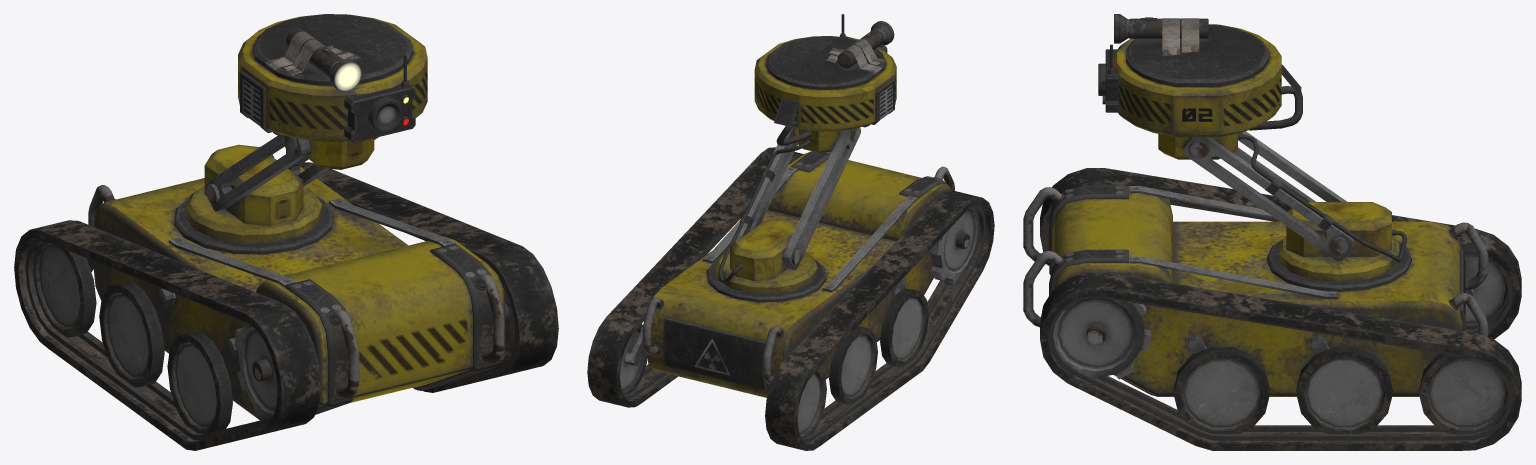
The model's file is wasteland_robot.glb.
3 views of the same model, side by side, from view 1: azimuth 30°, elevation 25°; view 2: azimuth 150°, elevation 25°; view 3: azimuth 270°, elevation 25° (orthographic). The views are drawn at different scales.
Parts seen in each view (by area): view 1: Cylinder010; view 2: Cylinder010; view 3: Cylinder010.
Boxes of the visible parts, x1,y1,x2,y2 form: Cylinder010: (14, 14, 558, 450); Cylinder010: (587, 14, 994, 450); Cylinder010: (1023, 14, 1521, 450).
Bounding box in the file's own units: 1.15 × 1.6 × 2.
1 material, 1 textured.
